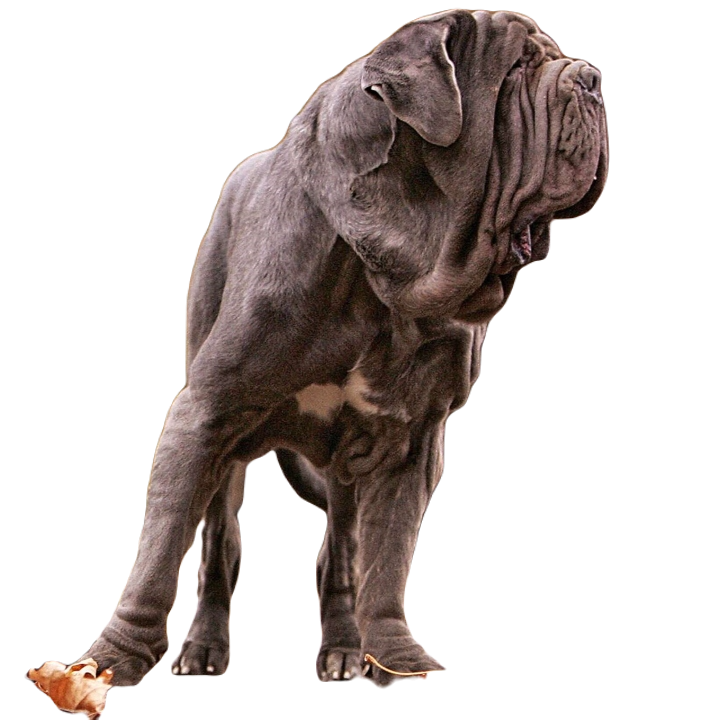Dog: (67, 5, 613, 681)
